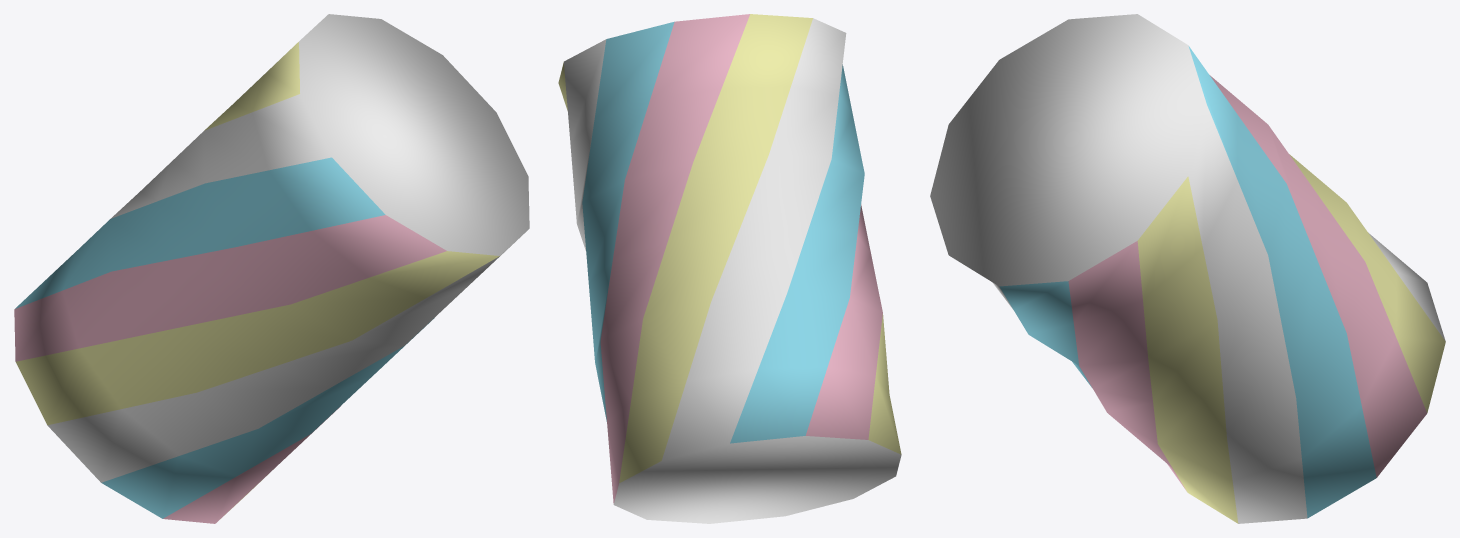
Rendered from drop_marshmallow.fbx.
3 views of the same model, side by side, from view 1: azimuth 30°, elevation 25°; view 2: azimuth 150°, elevation 25°; view 3: azimuth 270°, elevation 25° (orthographic). The views are drawn at different scales.
Parts seen in each view (by area): view 1: Cylinder; view 2: Cylinder; view 3: Cylinder.
Boxes of the visible parts, x1,y1,x2,y2 form: Cylinder: (14, 14, 529, 523); Cylinder: (558, 14, 901, 523); Cylinder: (930, 14, 1445, 523).
Bounding box in the file's own units: 217 × 252 × 230.
